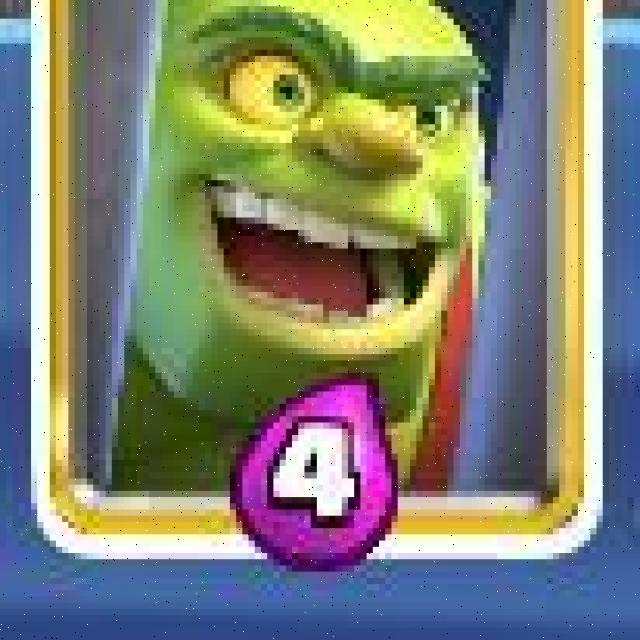Goblin_Cage: (29, 0, 602, 562)
